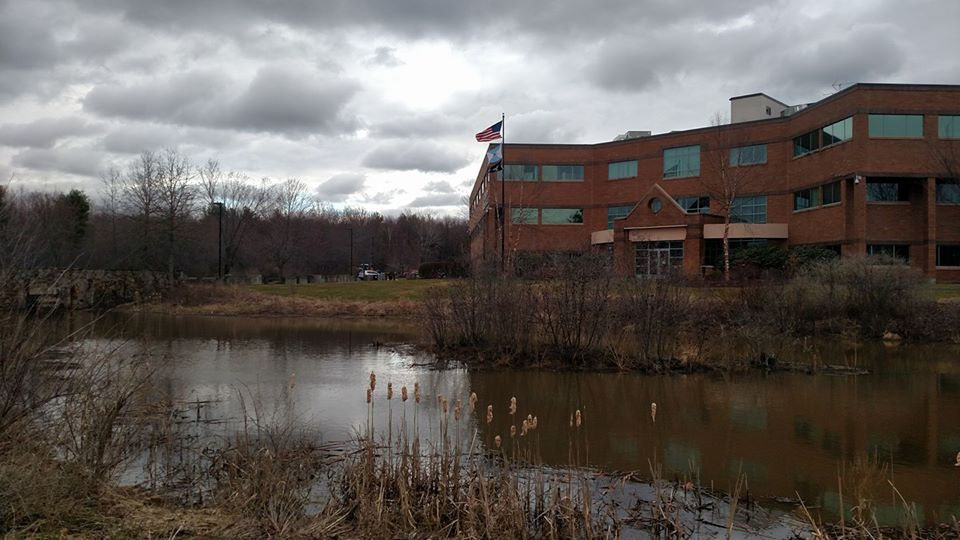building: (470, 88, 960, 291)
cattails: (354, 363, 661, 540)
sky: (2, 2, 473, 215), (438, 1, 960, 142)
vegetation: (434, 282, 801, 372), (213, 396, 335, 540), (790, 256, 960, 341), (3, 447, 101, 540)
water: (14, 295, 956, 540)
